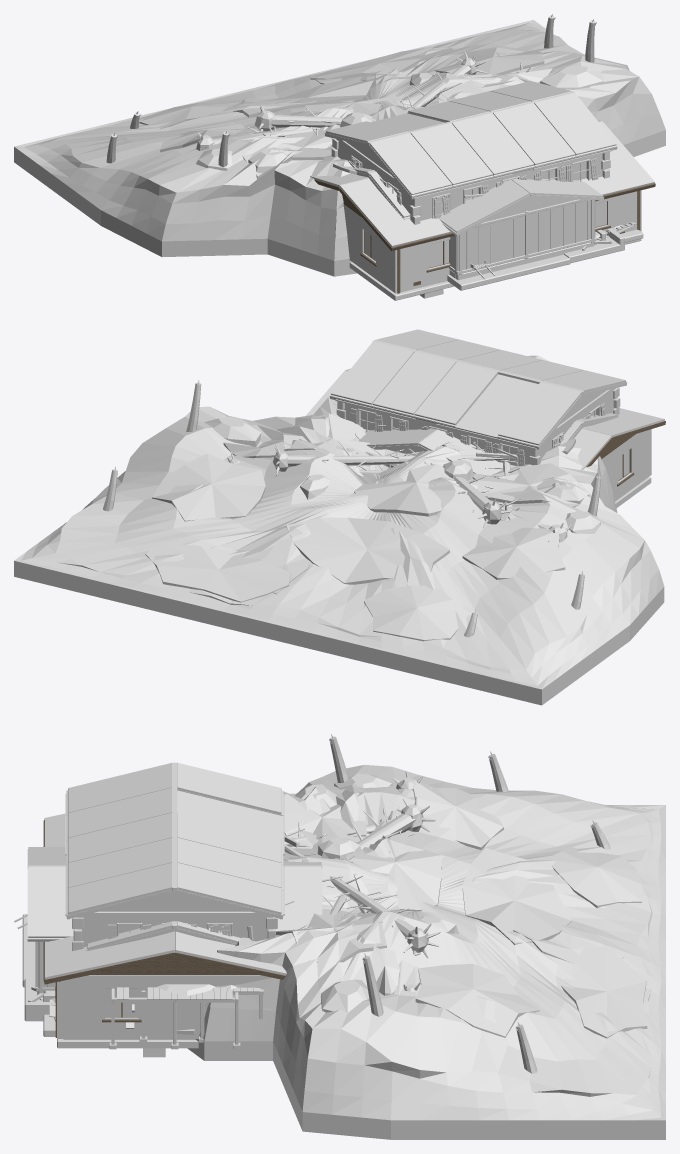
The model's file is VillageExpansion3D.fbx.
The picture shows the model from 3 angles, top to bottom: view 1: azimuth 30°, elevation 25°; view 2: azimuth 150°, elevation 25°; view 3: azimuth 270°, elevation 25°; orthographic projection. The views are drawn at different scales.
Parts seen in each view (by area): view 1: GEO_Expansion_Avalanche_CompactedSnowAndDebris, GEO_Expansion_TownHall_RoofSnow, GEO_Expansion_TradeWarehouse_ClosedWalls, GEO_Expansion_SkiLodge_RoofSnow, GEO_Expansion_TradeWarehouse_RoofSnow, GEO_Expansion_SkiLodge_FrontWall, GEO_Expansion_TownHall_PlasterWalls, GEO_Expansion_TradeWarehouse_StructuralTimbers, GEO_Expansion_Avalanche_WindSnowMantle07, GEO_Expansion_SkiLodge_SideWall-1, GEO_Expansion_Avalanche_WindSnowMantle09, GEO_Expansion_Avalanche_WindSnowMantle06 (+27 smaller); view 2: GEO_Expansion_Avalanche_CompactedSnowAndDebris, GEO_Expansion_TownHall_RoofSnow, GEO_Expansion_Avalanche_WindSnowMantle07, GEO_Expansion_Avalanche_WindSnowMantle09, GEO_Expansion_Avalanche_WindSnowMantle06, GEO_Expansion_Avalanche_WindSnowMantle08, GEO_Expansion_Avalanche_WindSnowMantle05, GEO_Expansion_TownHall_RoofDeck, GEO_Expansion_Avalanche_WindSnowMantle04, GEO_Expansion_SkiLodge_RoofSnow, GEO_Expansion_TradeWarehouse_RoofSnow, GEO_Expansion_Avalanche_WindSnowMantle02 (+15 smaller); view 3: GEO_Expansion_Avalanche_CompactedSnowAndDebris, GEO_Expansion_TownHall_RoofSnow, GEO_Expansion_SkiLodge_SideWall1, GEO_Expansion_TradeWarehouse_RoofSnow, GEO_Expansion_Avalanche_WindSnowMantle07, GEO_Expansion_SkiLodge_RoofSnow, GEO_Expansion_Avalanche_WindSnowMantle09, GEO_Expansion_Avalanche_WindSnowMantle06, GEO_Expansion_Avalanche_WindSnowMantle08, GEO_Expansion_Avalanche_WindSnowMantle04, GEO_Expansion_TownHall_RoofDeck, GEO_Expansion_Avalanche_WindSnowMantle05 (+25 smaller).
Boxes of the visible parts, box(x1,y1,x2,y2) form: GEO_Expansion_Avalanche_CompactedSnowAndDebris: box(14, 20, 665, 276); GEO_Expansion_TownHall_RoofSnow: box(326, 81, 616, 195); GEO_Expansion_TradeWarehouse_ClosedWalls: box(449, 200, 590, 271); GEO_Expansion_SkiLodge_RoofSnow: box(310, 119, 654, 247); GEO_Expansion_TradeWarehouse_RoofSnow: box(398, 106, 603, 232); GEO_Expansion_SkiLodge_FrontWall: box(393, 190, 641, 293); GEO_Expansion_TownHall_PlasterWalls: box(336, 139, 605, 220); GEO_Expansion_TradeWarehouse_StructuralTimbers: box(449, 199, 596, 274); GEO_Expansion_Avalanche_WindSnowMantle07: box(233, 74, 387, 117); GEO_Expansion_SkiLodge_SideWall-1: box(343, 204, 392, 291); GEO_Expansion_Avalanche_WindSnowMantle09: box(310, 48, 454, 79); GEO_Expansion_Avalanche_WindSnowMantle06: box(434, 47, 544, 74); GEO_Expansion_Avalanche_CompactedSnowAndDebris: box(14, 396, 664, 705); GEO_Expansion_TownHall_RoofSnow: box(330, 329, 625, 445); GEO_Expansion_Avalanche_WindSnowMantle07: box(286, 517, 449, 584); GEO_Expansion_Avalanche_WindSnowMantle09: box(145, 542, 290, 602); GEO_Expansion_Avalanche_WindSnowMantle06: box(152, 453, 265, 521); GEO_Expansion_Avalanche_WindSnowMantle08: box(364, 585, 471, 641); GEO_Expansion_Avalanche_WindSnowMantle05: box(462, 527, 565, 579); GEO_Expansion_TownHall_RoofDeck: box(329, 374, 626, 449); GEO_Expansion_Avalanche_WindSnowMantle04: box(354, 461, 465, 516); GEO_Expansion_SkiLodge_RoofSnow: box(306, 368, 664, 470); GEO_Expansion_TradeWarehouse_RoofSnow: box(359, 355, 548, 475); GEO_Expansion_Avalanche_WindSnowMantle02: box(472, 463, 591, 507); GEO_Expansion_Avalanche_CompactedSnowAndDebris: box(187, 765, 665, 1139); GEO_Expansion_TownHall_RoofSnow: box(68, 762, 281, 914); GEO_Expansion_SkiLodge_SideWall1: box(63, 975, 271, 1038); GEO_Expansion_TradeWarehouse_RoofSnow: box(28, 847, 321, 937); GEO_Expansion_Avalanche_WindSnowMantle07: box(462, 848, 571, 945); GEO_Expansion_SkiLodge_RoofSnow: box(44, 813, 286, 979); GEO_Expansion_Avalanche_WindSnowMantle09: box(561, 946, 647, 1038); GEO_Expansion_Avalanche_WindSnowMantle06: box(415, 964, 539, 1037); GEO_Expansion_Avalanche_WindSnowMantle08: box(550, 845, 641, 908); GEO_Expansion_Avalanche_WindSnowMantle04: box(346, 847, 441, 911); GEO_Expansion_TownHall_RoofDeck: box(66, 790, 283, 919); GEO_Expansion_Avalanche_WindSnowMantle05: box(413, 780, 503, 849).
Bounding box in the file's own units: 38 × 11.03 × 33.19.
